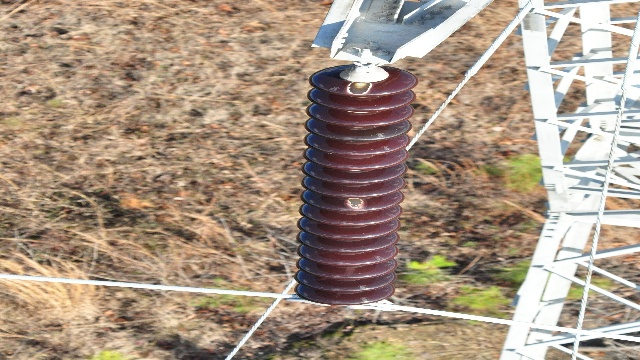insulator_unspecified: (290, 66, 417, 304)
pollution_flashover_local: (343, 80, 373, 96), (342, 197, 367, 210)
